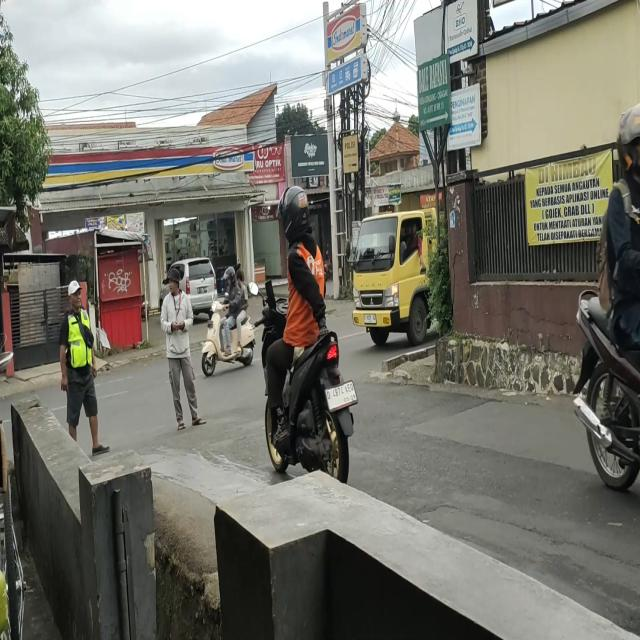helmet: (278, 189, 310, 235), (622, 111, 640, 166), (228, 267, 235, 283)
